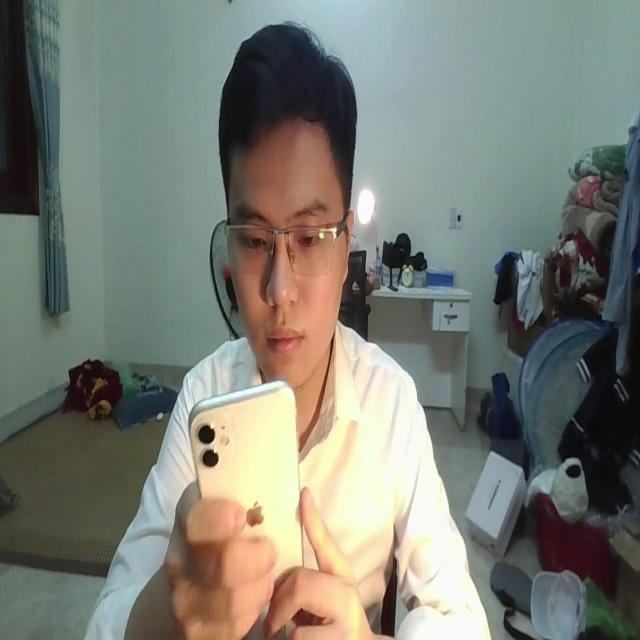phone: (186, 376, 303, 580)
student: (84, 13, 492, 640)
